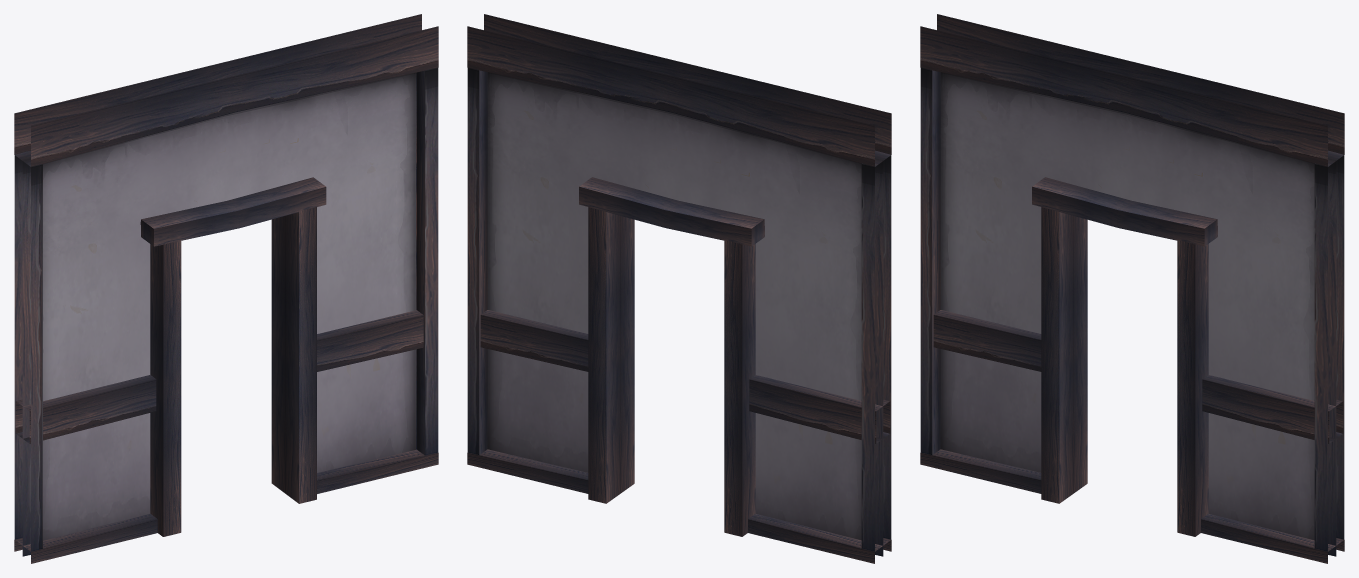
The model's file is WallDoor_2sided_detailed_2ndFloor.fbx.
3 renders of one model, left to right at view 1: azimuth 30°, elevation 25°; view 2: azimuth 150°, elevation 25°; view 3: azimuth 330°, elevation 25°, orthographic.
Parts seen in each view (by area): view 1: WallDoor_2sided_detailed_2ndFloor; view 2: WallDoor_2sided_detailed_2ndFloor; view 3: WallDoor_2sided_detailed_2ndFloor.
Boxes of the visible parts, x1,y1,x2,y2 form: WallDoor_2sided_detailed_2ndFloor: (14,14,438,563); WallDoor_2sided_detailed_2ndFloor: (467,14,891,563); WallDoor_2sided_detailed_2ndFloor: (920,14,1344,563).
Size of the model in its own units: 0.6266 by 0.646 by 0.0741.
